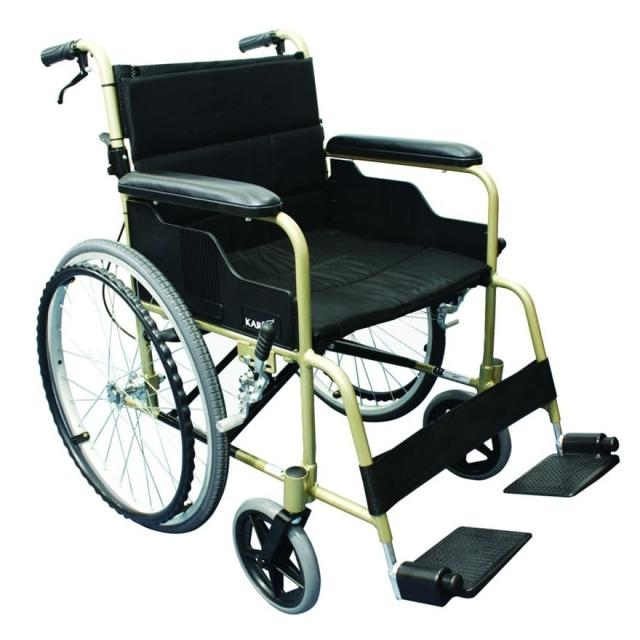wheelchair: (26, 18, 627, 615)
